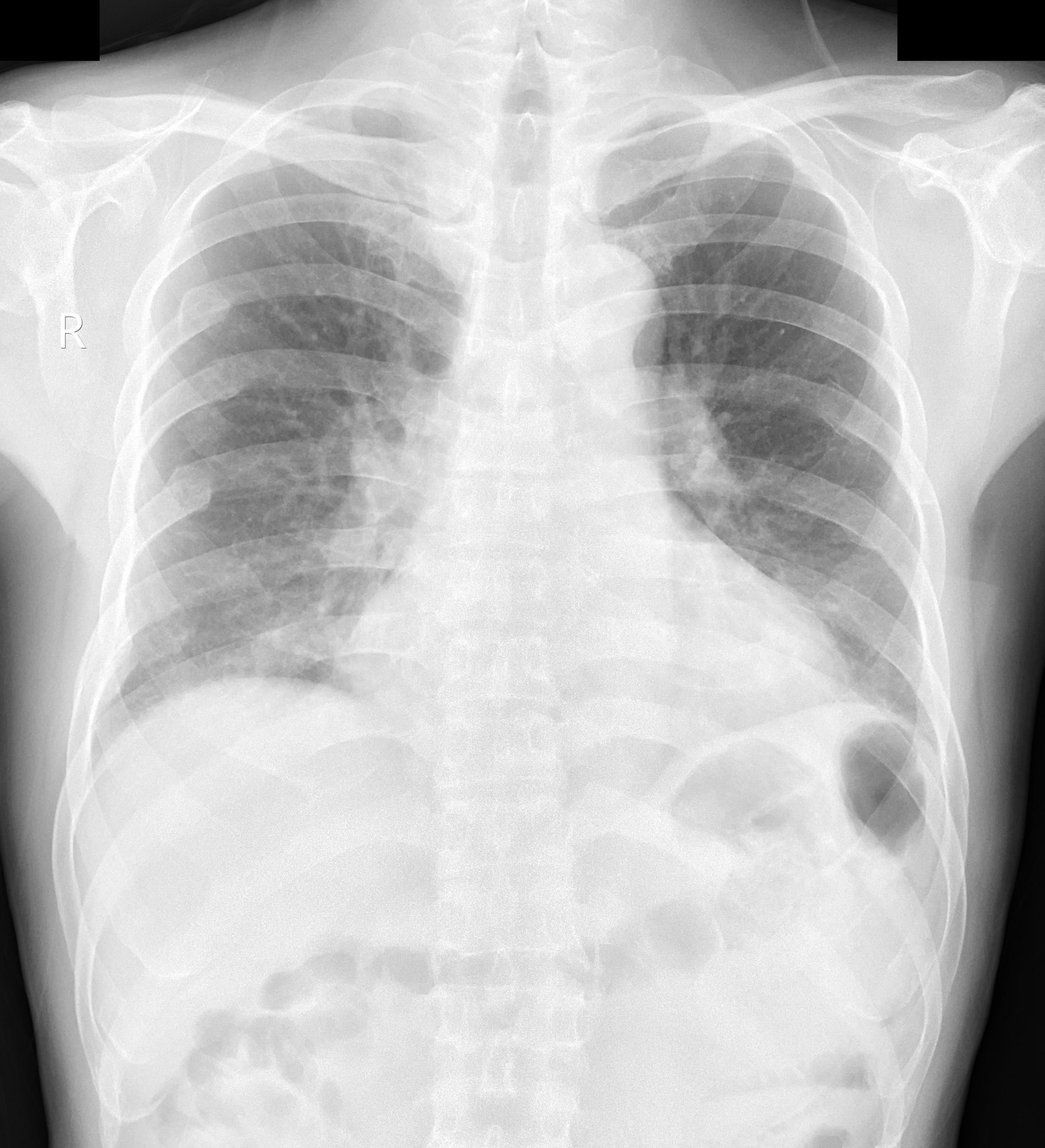Aortic enlargement: (548, 246, 665, 369)
Cardiomegaly: (334, 602, 856, 772)
